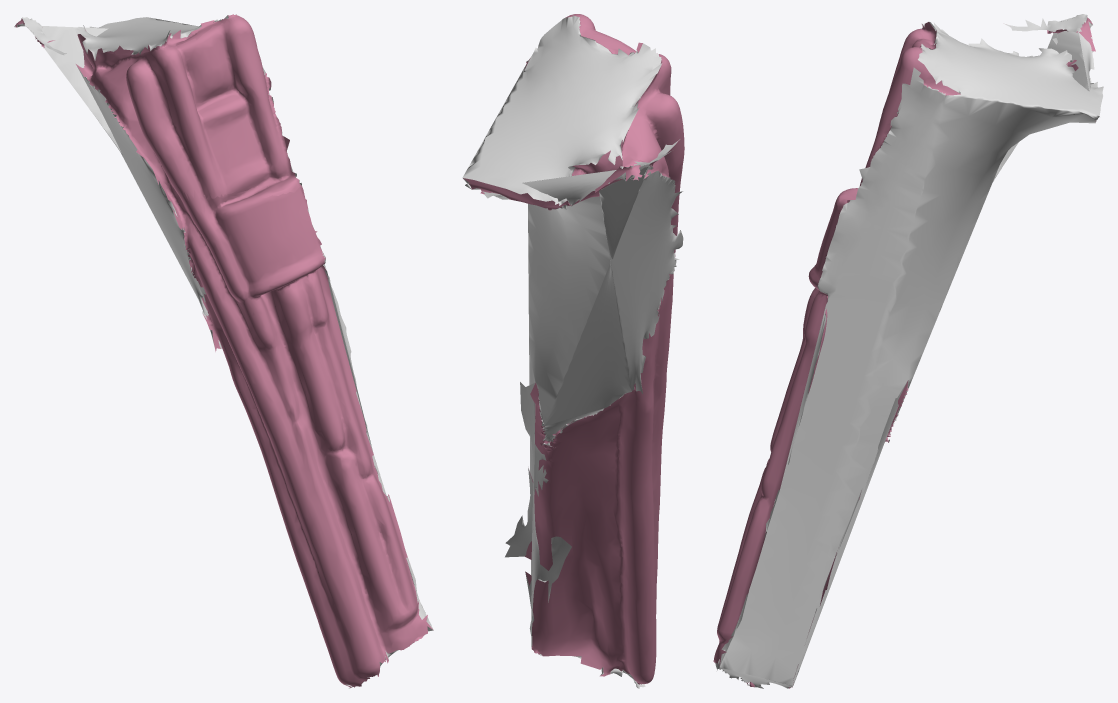
File: Hi3D_Segmented Pastel Female Android 3D Model Asset_part55_20261014_192059.glb
3 renders of one model, left to right at view 1: azimuth 30°, elevation 25°; view 2: azimuth 150°, elevation 25°; view 3: azimuth 270°, elevation 25°, orthographic. The views are drawn at different scales.
Parts seen in each view (by area): view 1: Hi3D_Segmented Pastel Female Android 3D Model Asset_part55_2; view 2: Hi3D_Segmented Pastel Female Android 3D Model Asset_part55_2; view 3: Hi3D_Segmented Pastel Female Android 3D Model Asset_part55_2.
Part boxes in pixels (x1,y1,x2,y2): Hi3D_Segmented Pastel Female Android 3D Model Asset_part55_2: [14, 14, 433, 688]; Hi3D_Segmented Pastel Female Android 3D Model Asset_part55_2: [462, 14, 684, 688]; Hi3D_Segmented Pastel Female Android 3D Model Asset_part55_2: [713, 14, 1103, 688].
Bounding box in the file's own units: 0.0455 × 0.1107 × 0.0628.
